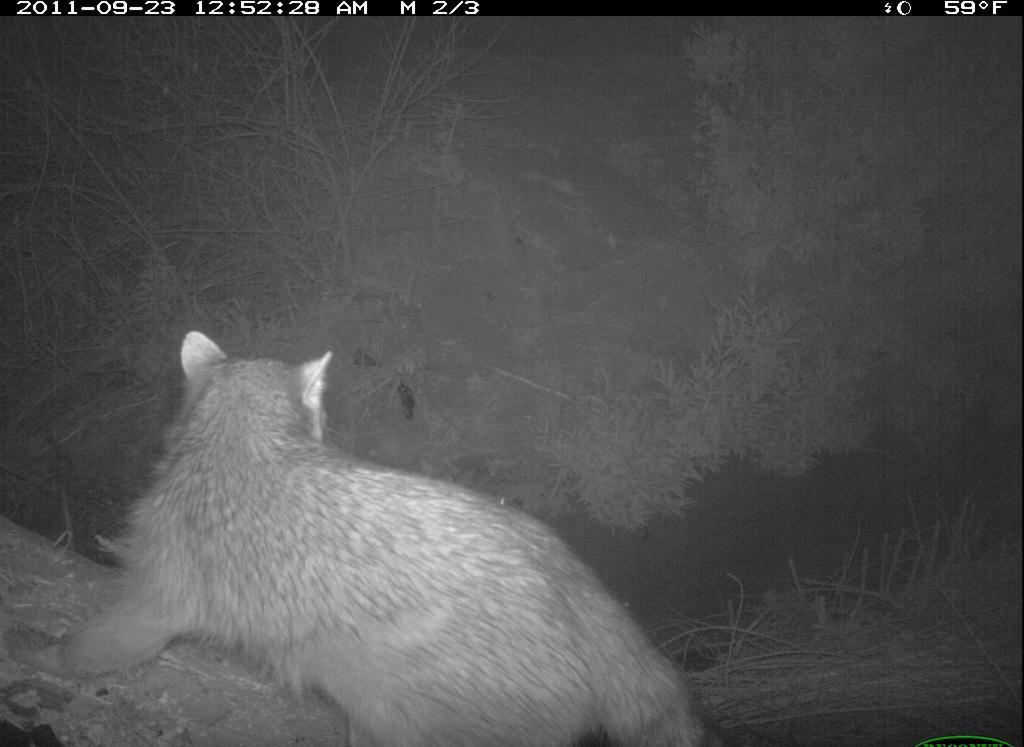raccoon: (11, 331, 728, 747)
